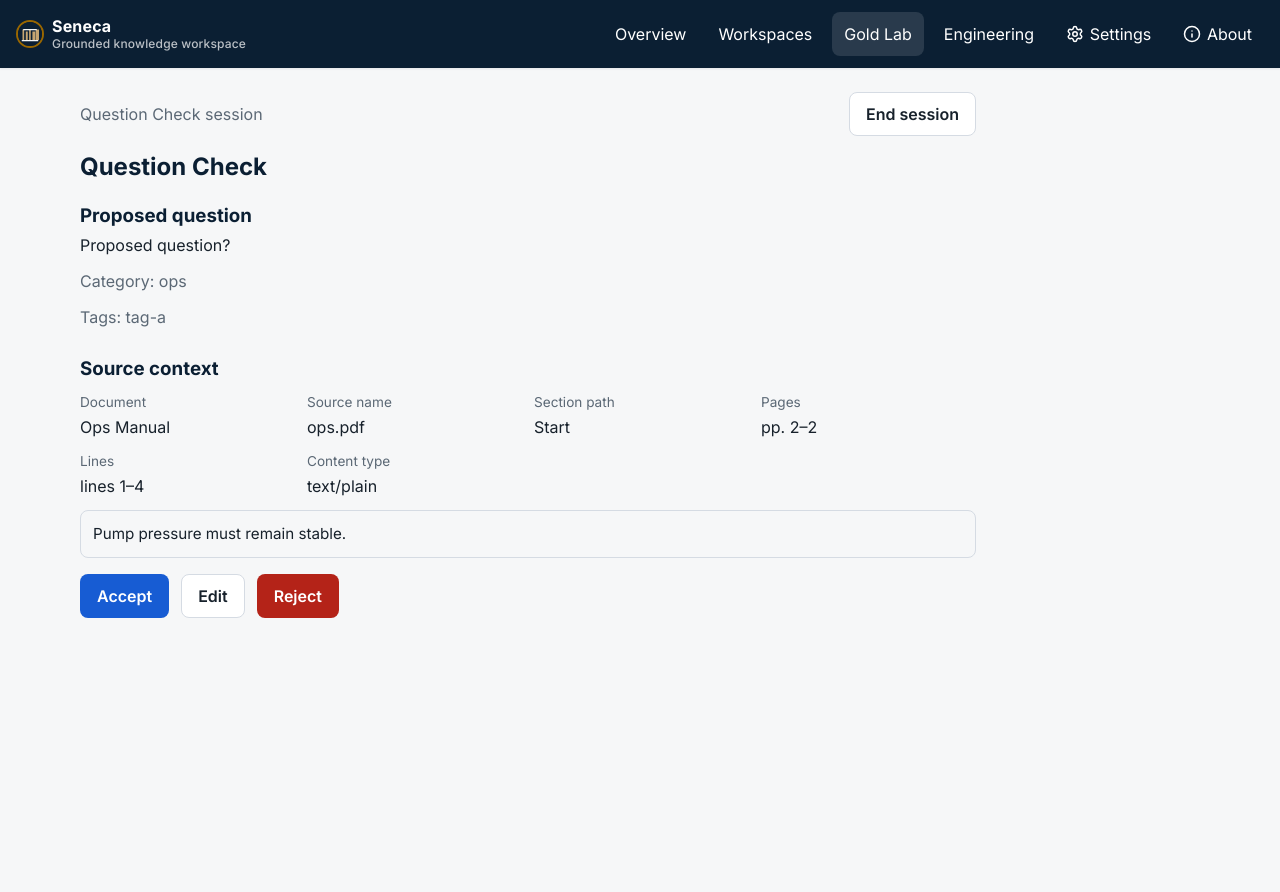
it: 16N-B session exit and completion › B-EXIT-05/06: unsaved QC edit requires discard confirmation; Keep working stays
The width and height of the screenshot is (1280, 892).
Expected: the element with test id "question-check-presentation" is shown, [80,152,976,634]
Click the button "Edit".
click(213, 596)  # box [181,574,245,618]
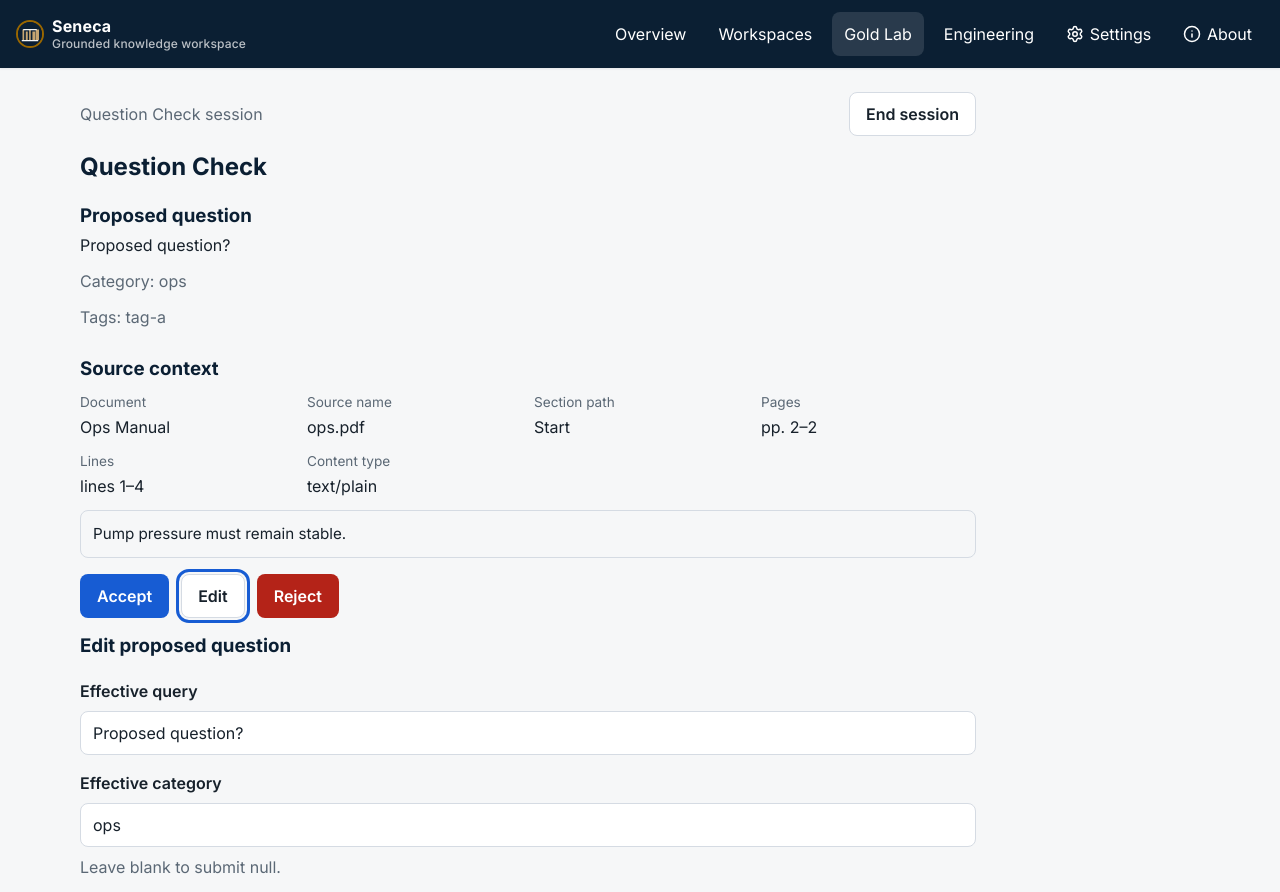
Now the field labelled "Effective query" is shown, box [80,710,976,754]
Click the button with test id "end-session".
click(912, 114)  # box [849,92,976,136]
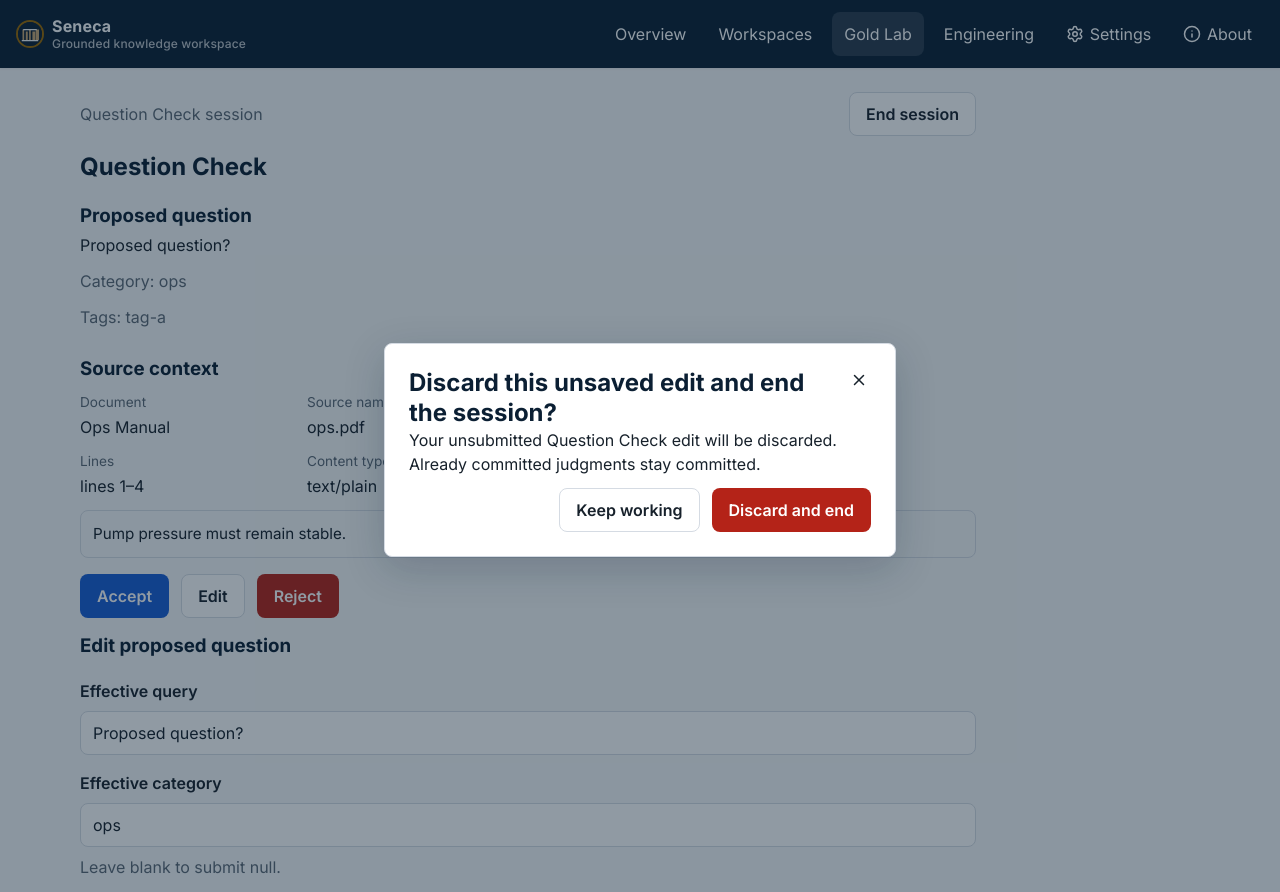
Now the heading "Discard this unsaved edit and end the session?" is shown, box [409,368,831,428]
Click the button "Keep working".
click(630, 510)  # box [559,488,700,532]
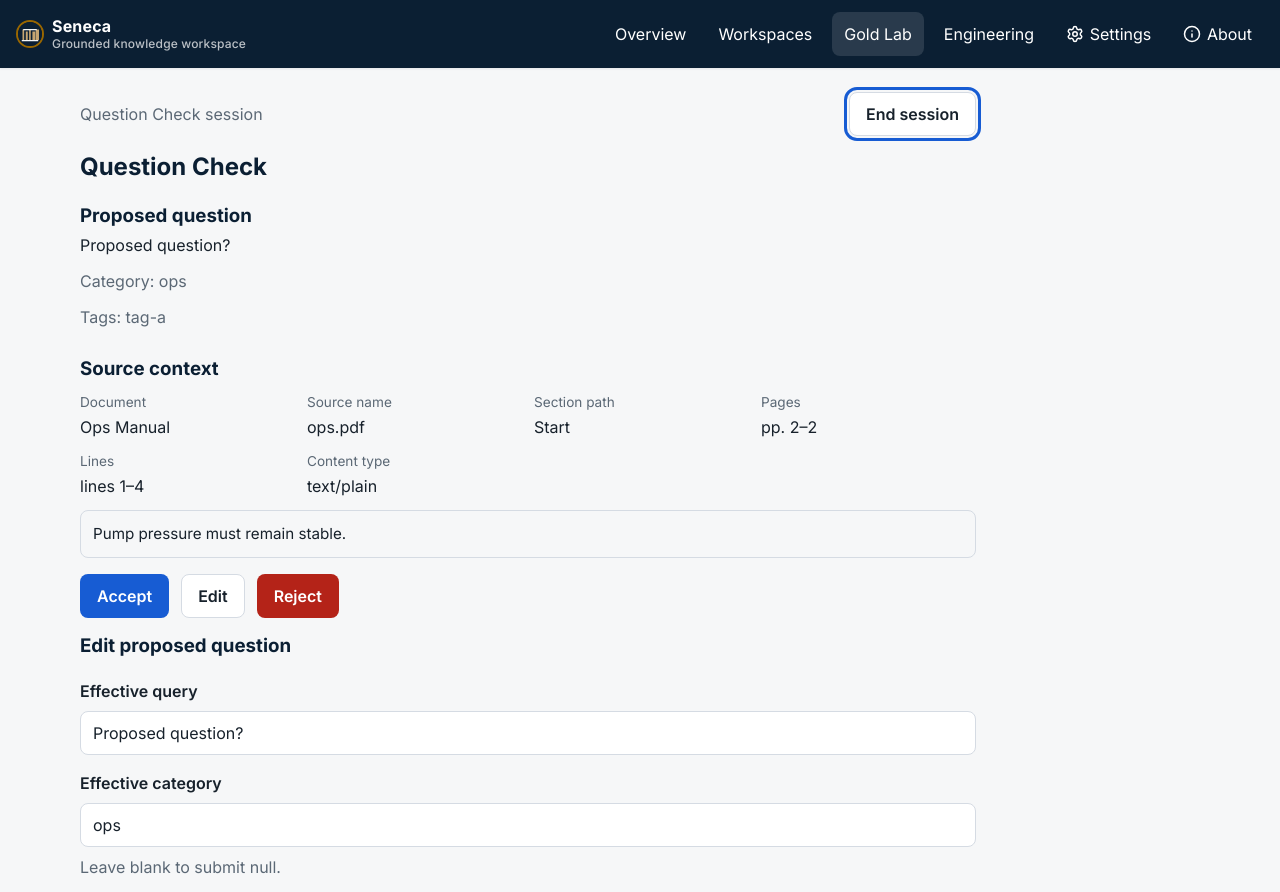
Now the field labelled "Effective query" is shown, box [80,710,976,754]
Click the button with test id "end-session".
click(912, 114)  # box [849,92,976,136]
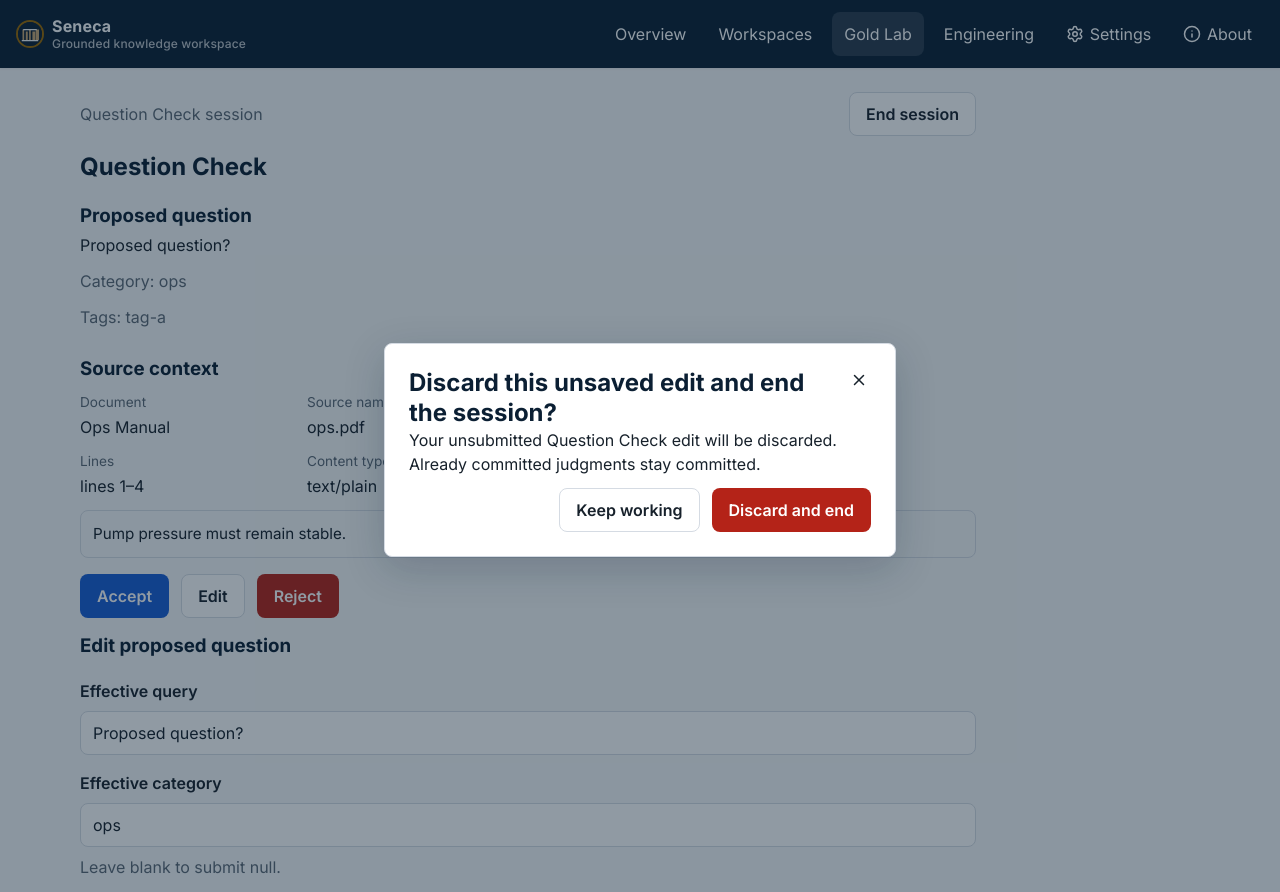
Now the heading "Discard this unsaved edit and end the session?" is shown, box [409,368,831,428]
Click the button "Discard and end".
click(791, 510)  # box [712,488,871,532]
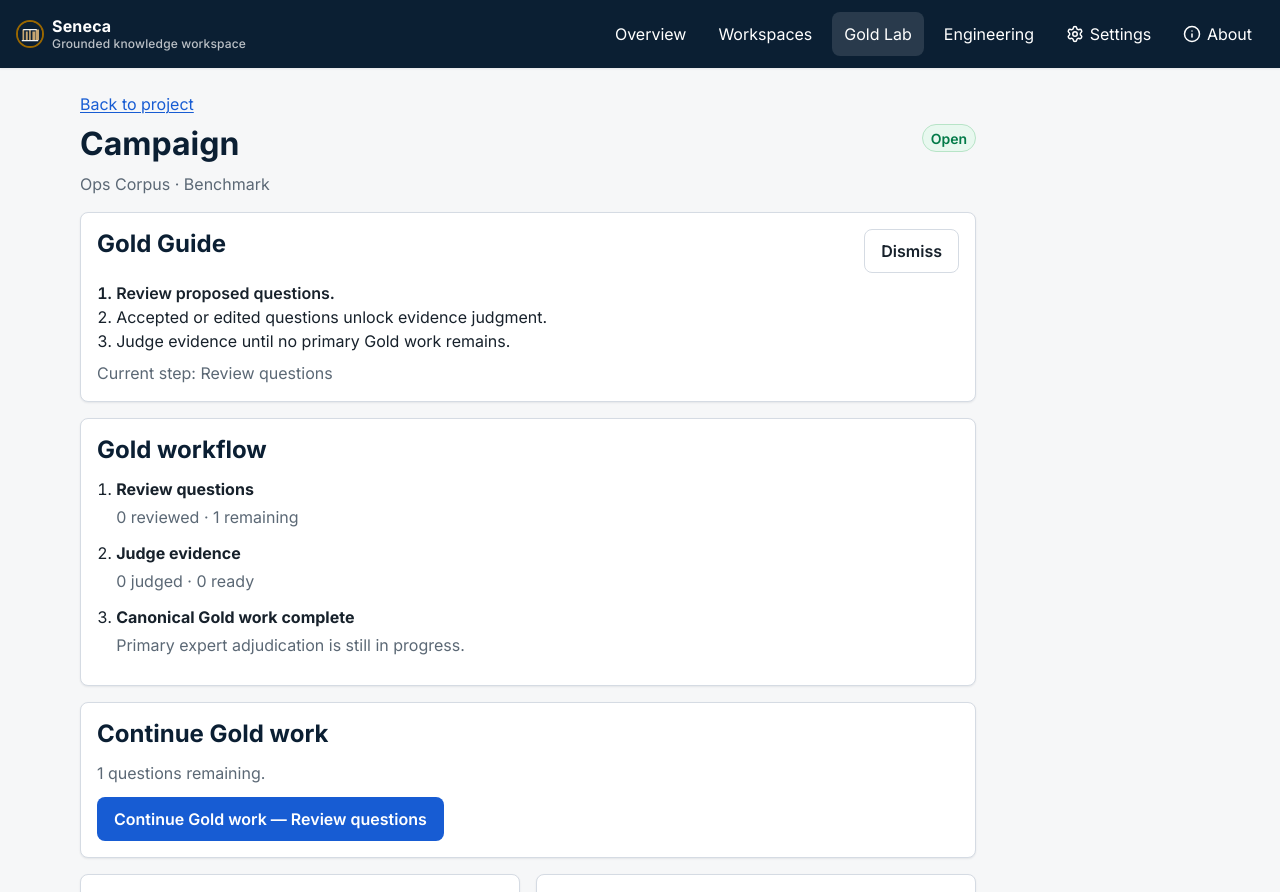
Now the heading "Campaign" is shown, box [80,124,239,164]
